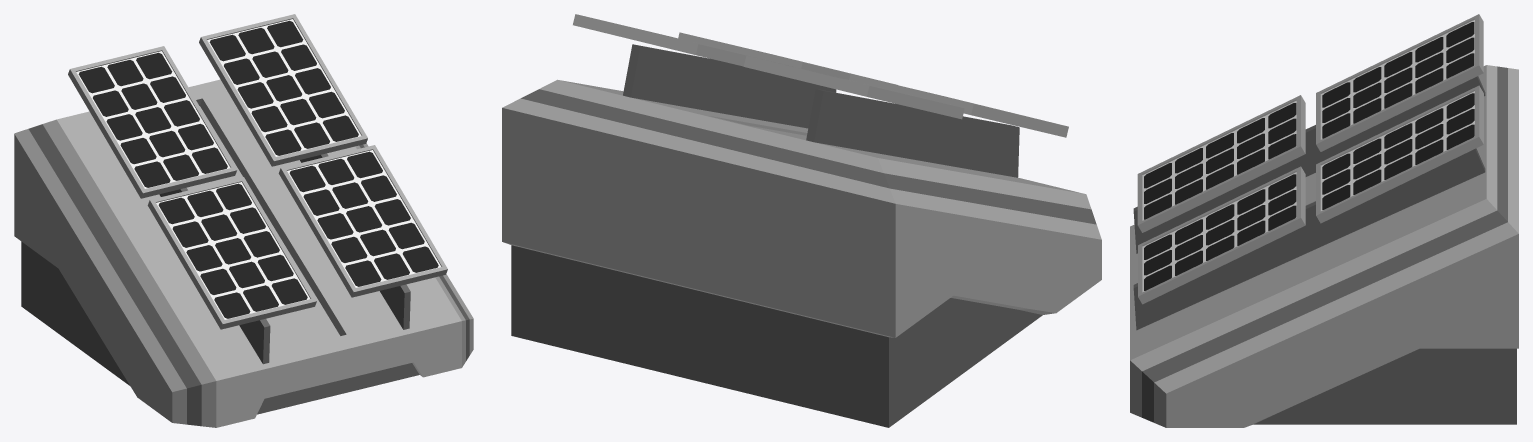
Rendered from solar-large.glb.
The picture shows the model from 3 angles, left to right: view 1: azimuth 30°, elevation 25°; view 2: azimuth 150°, elevation 25°; view 3: azimuth 270°, elevation 25°; orthographic projection. The views are drawn at different scales.
Parts seen in each view (by area): view 1: SolarPanel_Structure; view 2: SolarPanel_Structure; view 3: SolarPanel_Structure.
Boxes of the visible parts, left/top/right/bottom form: SolarPanel_Structure: left=14, top=14, right=473, bottom=427; SolarPanel_Structure: left=502, top=14, right=1101, bottom=427; SolarPanel_Structure: left=1130, top=14, right=1518, bottom=427.
Size of the model in its own units: 4 by 3.07 by 4.
1 material, 1 textured.
